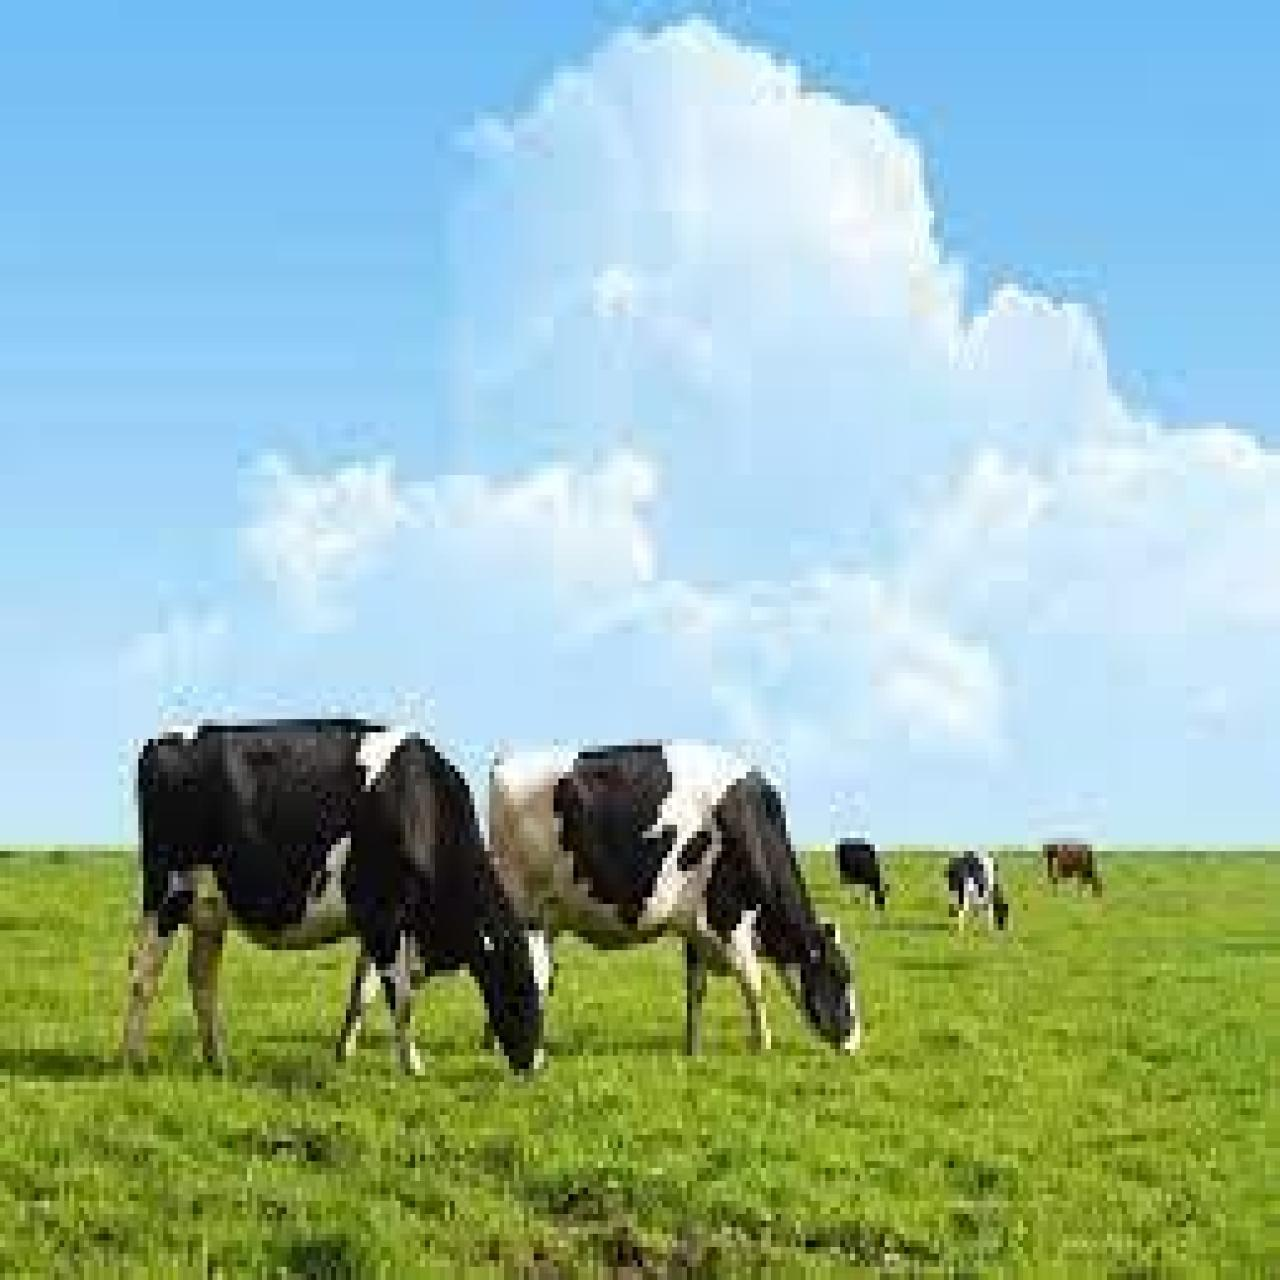cow: (116, 713, 556, 1102), (489, 736, 859, 1060), (941, 847, 1010, 933), (832, 835, 892, 920), (1041, 842, 1104, 900)
